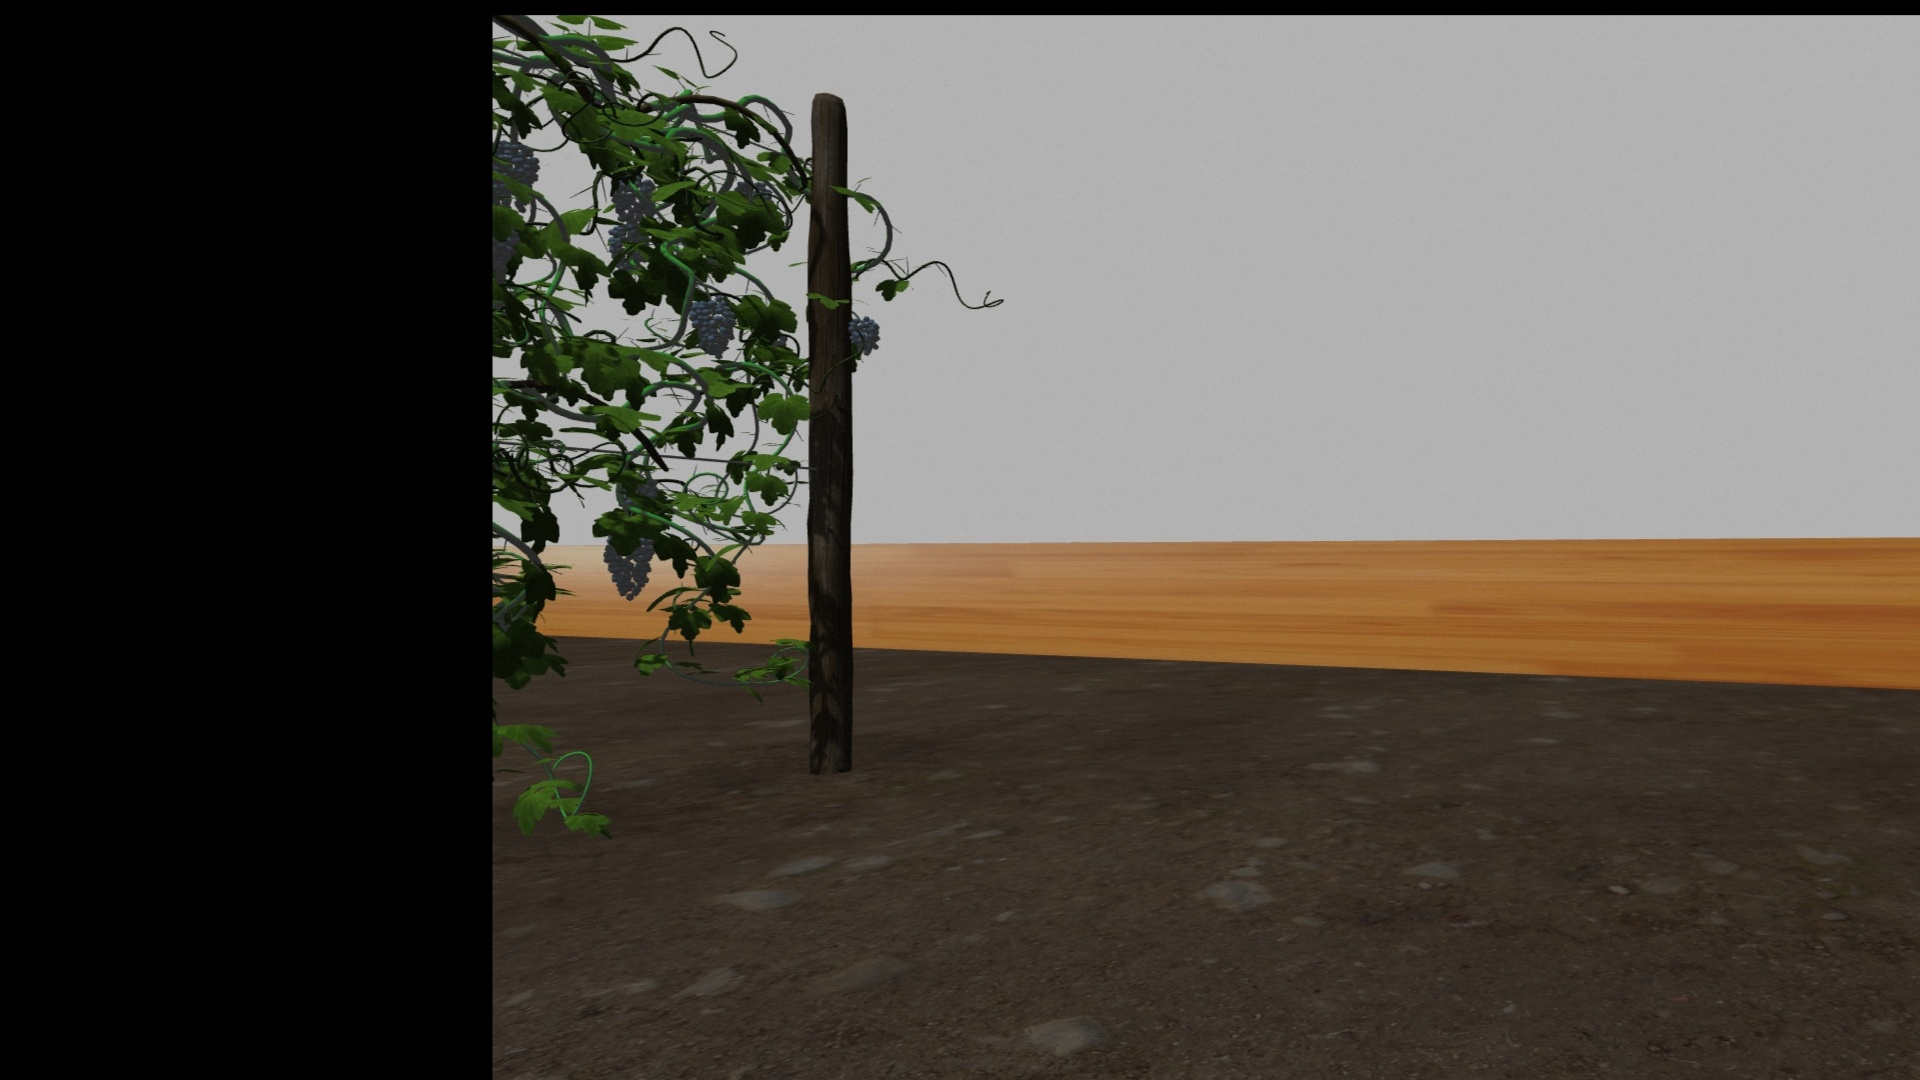grape: (604, 531, 653, 601), (496, 142, 541, 210), (688, 295, 736, 357), (611, 173, 655, 228), (607, 225, 650, 272), (848, 316, 880, 352)
